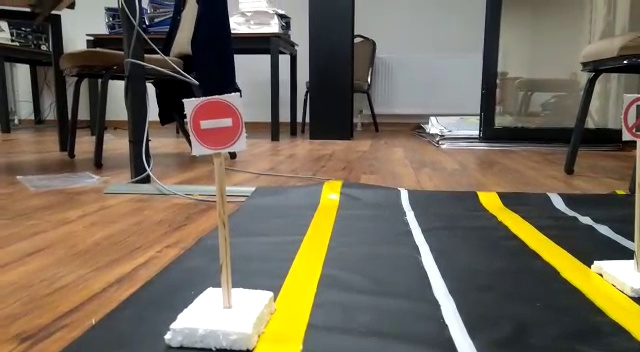girisi_olmayan_yol: (189, 96, 242, 149)
